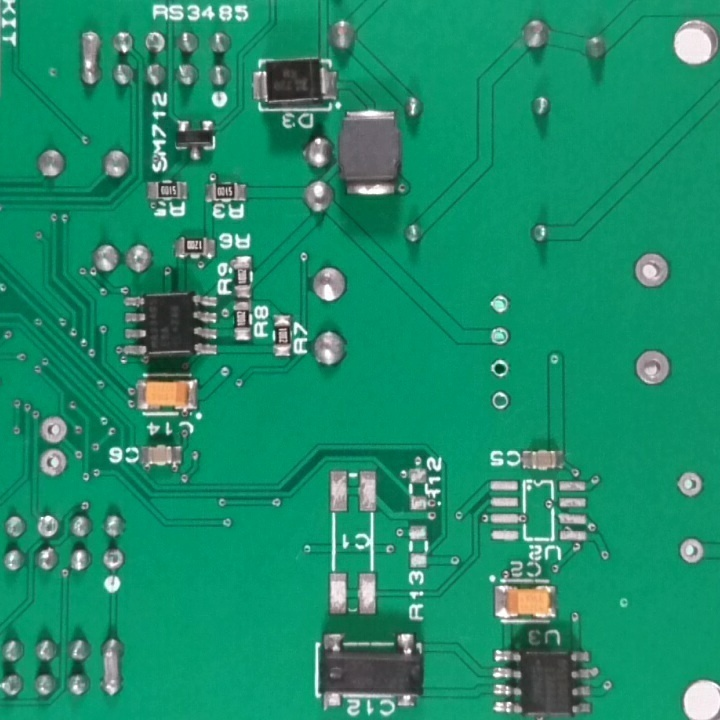F: (627, 247, 673, 292), (630, 345, 675, 389), (36, 415, 74, 446), (673, 467, 707, 500), (36, 447, 71, 479), (678, 534, 709, 565), (34, 512, 63, 541), (142, 29, 169, 58), (485, 292, 513, 319), (101, 545, 125, 576), (486, 324, 513, 350), (487, 356, 512, 381), (489, 389, 512, 415)
P: (73, 23, 105, 94), (97, 628, 125, 702)
